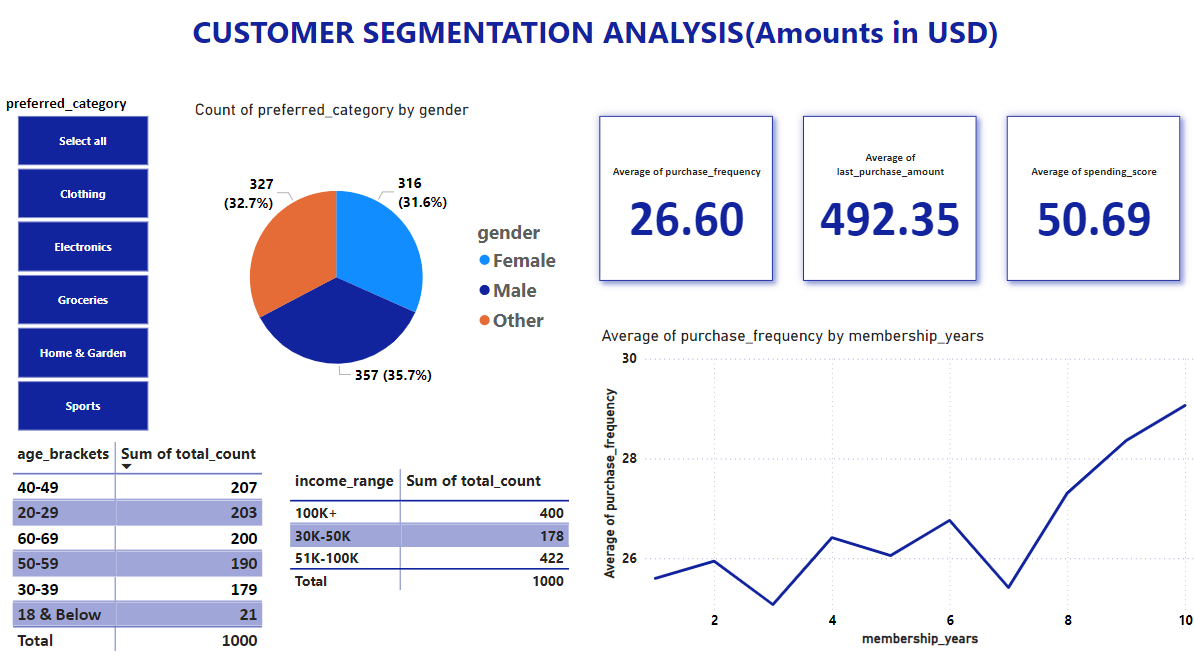

What the dashboard file says about the page in this screenshot:
{"tool":"powerbi","page":{"name":"Page 1","canvas":[1280,720],"ordinal":0},"visuals":[{"type":"tableEx","fields":{"Values":["Query1.age_brackets","Sum(Query1.total_count)"]},"box":[15.9,477.2,294.3,243.4],"z":0},{"type":"tableEx","fields":{"Values":["Query2.income_range","Sum(Query2.total_count)"]},"box":[310.2,505.8,316.5,197.2],"z":1000},{"type":"pieChart","fields":{"Y":["CountNonNull(my_projects customer_segmentation_data.preferred_category)"],"Series":["my_projects customer_segmentation_data.gender"]},"box":[209.8,119.1,402.5,357.2],"z":2000},{"type":"slicer","fields":{"Values":["my_projects customer_segmentation_data.preferred_category"]},"box":[1.6,108.2,187.7,369],"z":3000},{"type":"textbox","box":[1.9,18.9,1277.5,60.5],"z":4000},{"type":"cardVisual","fields":{"Data":["Avg(my_projects customer_segmentation_data.purchase_frequency)","Avg(my_projects customer_segmentation_data.last_purchase_amount)","Avg(my_projects customer_segmentation_data.spending_score)"]},"box":[627.4,119.1,652,209.8],"z":5000},{"type":"lineChart","fields":{"Category":["my_projects customer_segmentation_data.membership_years"],"Y":["Avg(my_projects customer_segmentation_data.purchase_frequency)"]},"box":[640.6,359.1,638.7,343.9],"z":6000}]}

Visuals, with their boxes in screenshot pixels (x1, y1, x2, y2), scaled from the page's 1280x720 canvas onto the 1194x663 screenshot:
tableEx - Query1.age_brackets x Sum(Query1.total_count): (15, 439, 289, 662)
tableEx - Query2.income_range x Sum(Query2.total_count): (289, 466, 585, 647)
pieChart - CountNonNull(my_projects customer_segmentation_data.preferred_category) x my_projects customer_segmentation_data.gender: (196, 110, 571, 439)
slicer - my_projects customer_segmentation_data.preferred_category: (1, 100, 177, 439)
textbox: (2, 17, 1193, 73)
cardVisual - Avg(my_projects customer_segmentation_data.purchase_frequency) x Avg(my_projects customer_segmentation_data.last_purchase_amount): (585, 110, 1193, 303)
lineChart - my_projects customer_segmentation_data.membership_years x Avg(my_projects customer_segmentation_data.purchase_frequency): (598, 331, 1193, 647)
